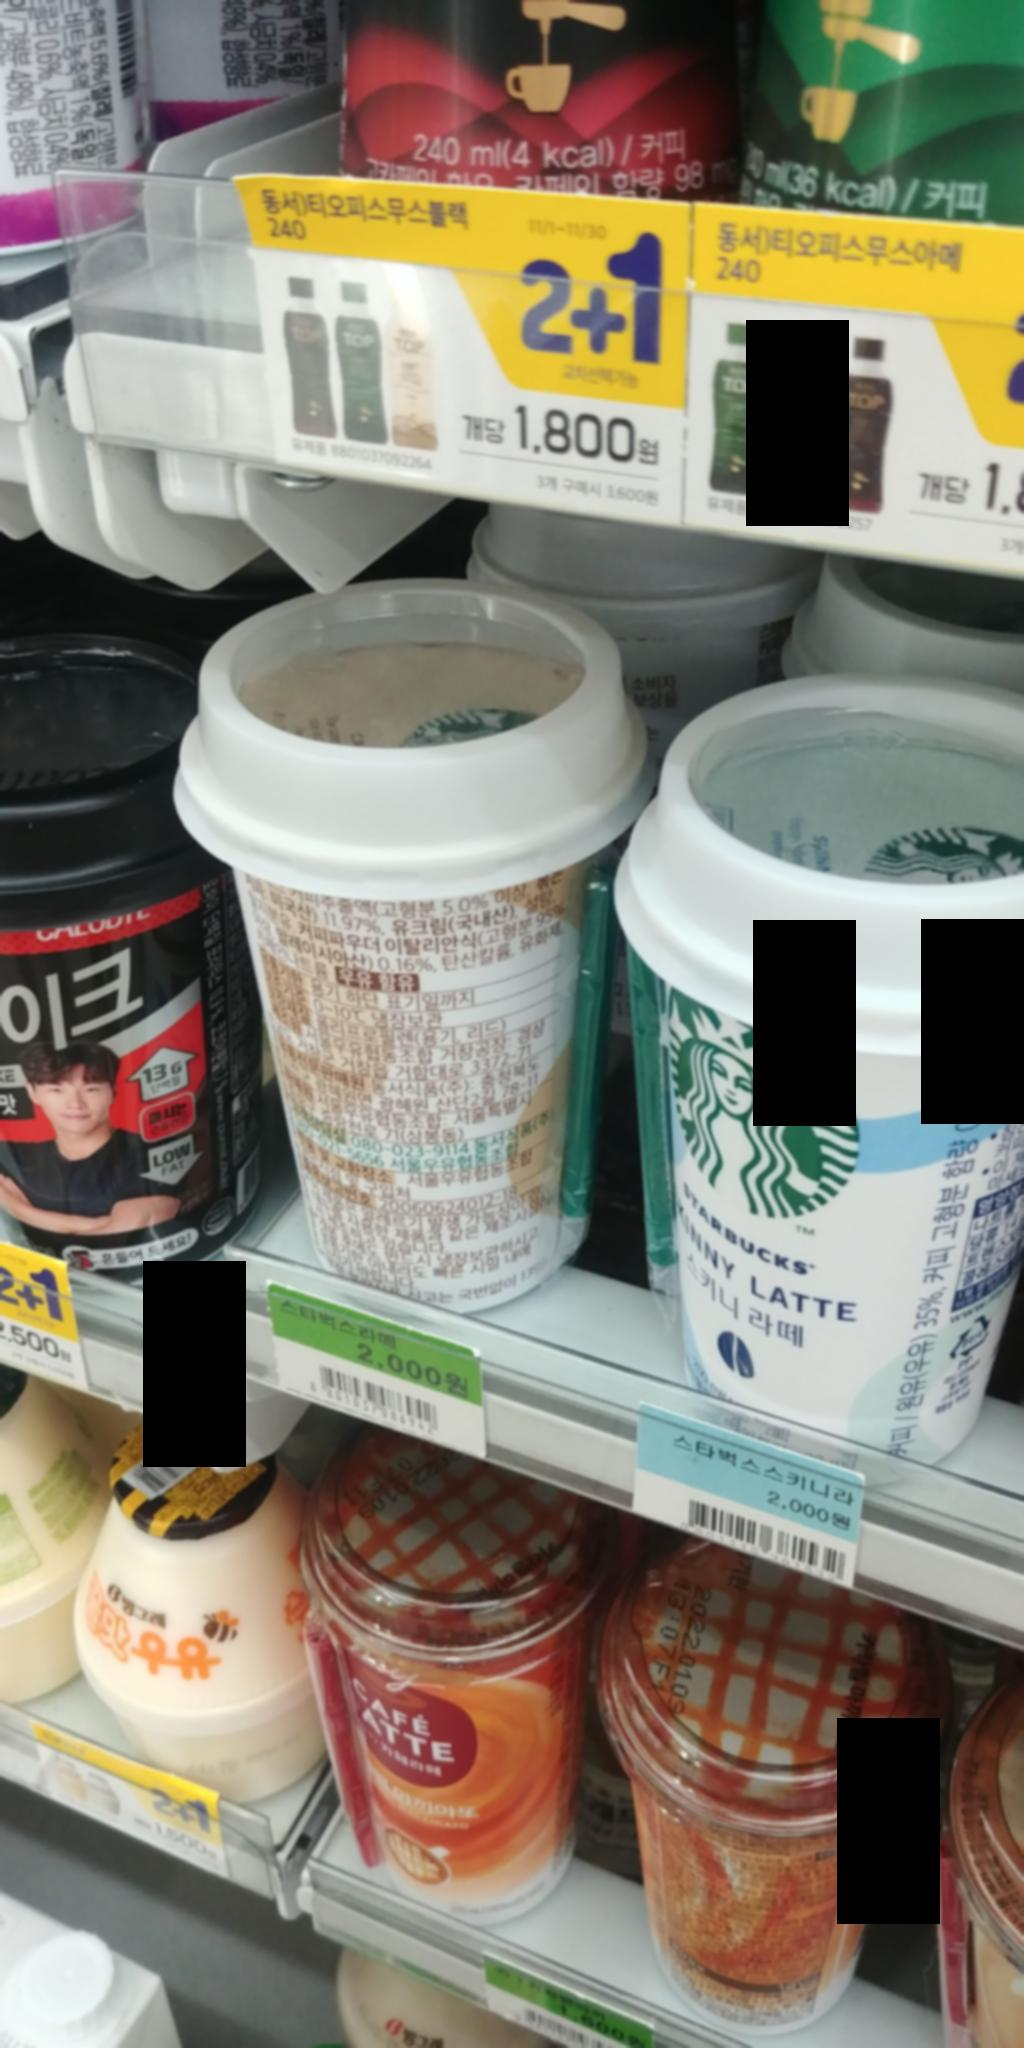starbucks_cafelatte: (150, 566, 660, 1334)
